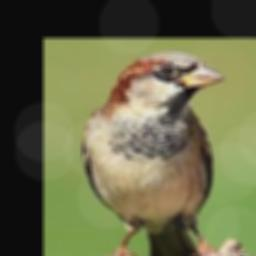Sparrow: (82, 52, 225, 256)
